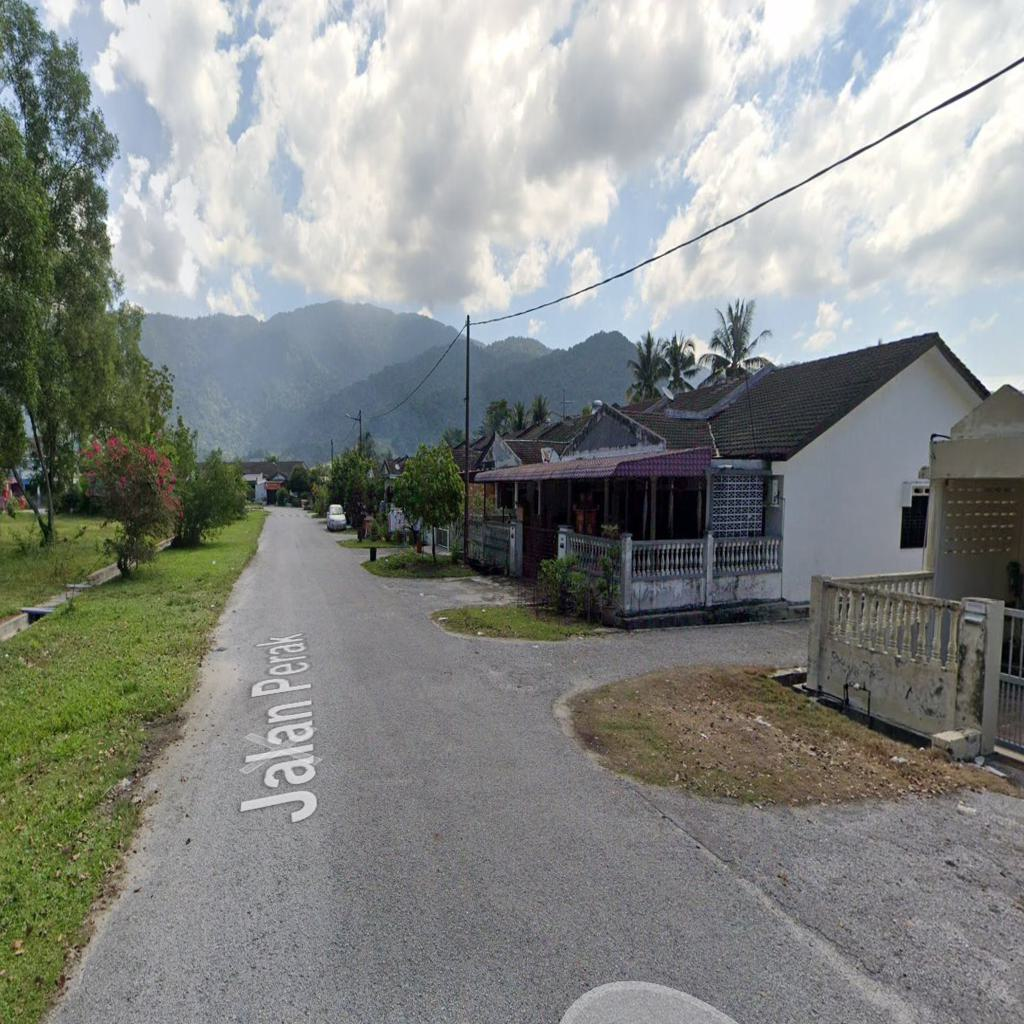Junction: (484, 556, 812, 760)
